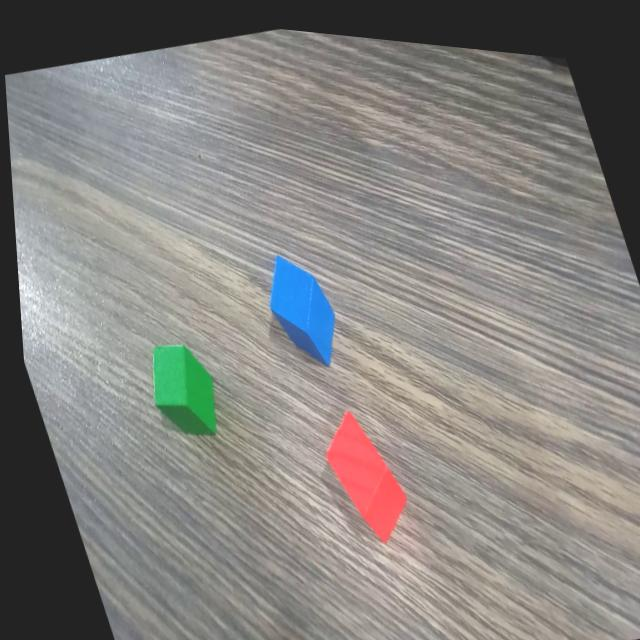cube: (305, 390, 416, 548), (248, 234, 349, 371), (128, 324, 226, 445)
